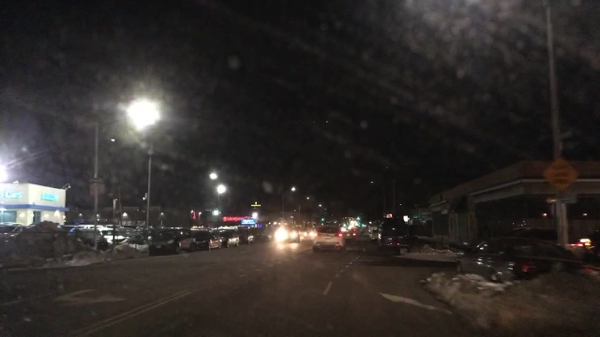car: (453, 236, 584, 283), (499, 226, 587, 260), (377, 219, 410, 250), (313, 223, 345, 251), (69, 228, 108, 250), (196, 229, 228, 252), (149, 233, 179, 256), (99, 227, 140, 242), (0, 223, 28, 244), (579, 230, 599, 259), (273, 223, 301, 243), (120, 237, 150, 252), (175, 227, 194, 250), (220, 230, 240, 248), (158, 227, 179, 242), (238, 227, 254, 245), (142, 227, 160, 243), (367, 220, 380, 241), (79, 223, 103, 232), (57, 223, 80, 232), (0, 219, 22, 227), (301, 228, 314, 240), (343, 228, 355, 240), (259, 230, 272, 241), (105, 223, 122, 229)
traffic sign: (543, 158, 579, 192), (544, 196, 578, 205)
